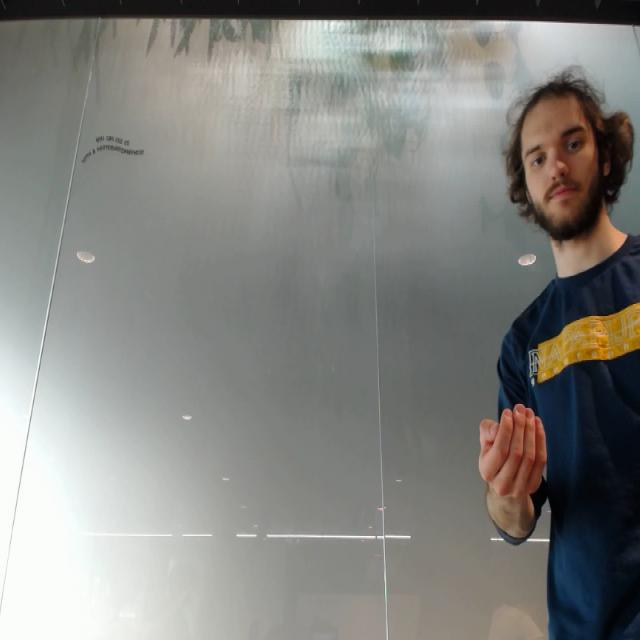forward: (476, 398, 552, 505)
